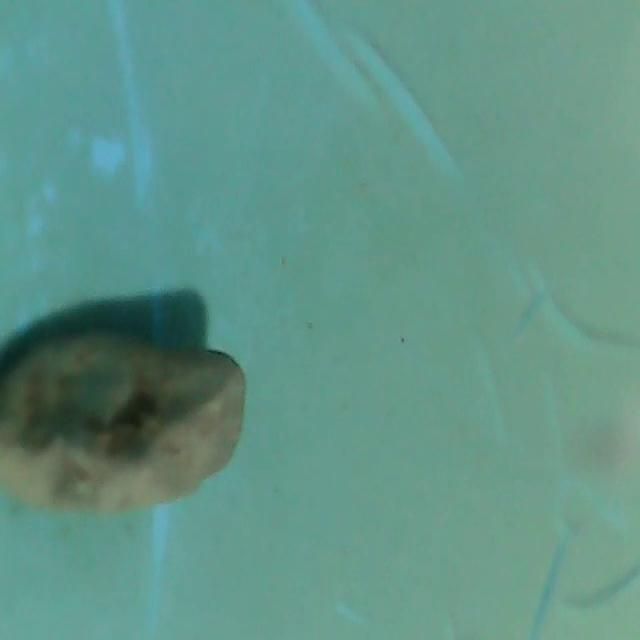rock: (0, 312, 252, 537)
